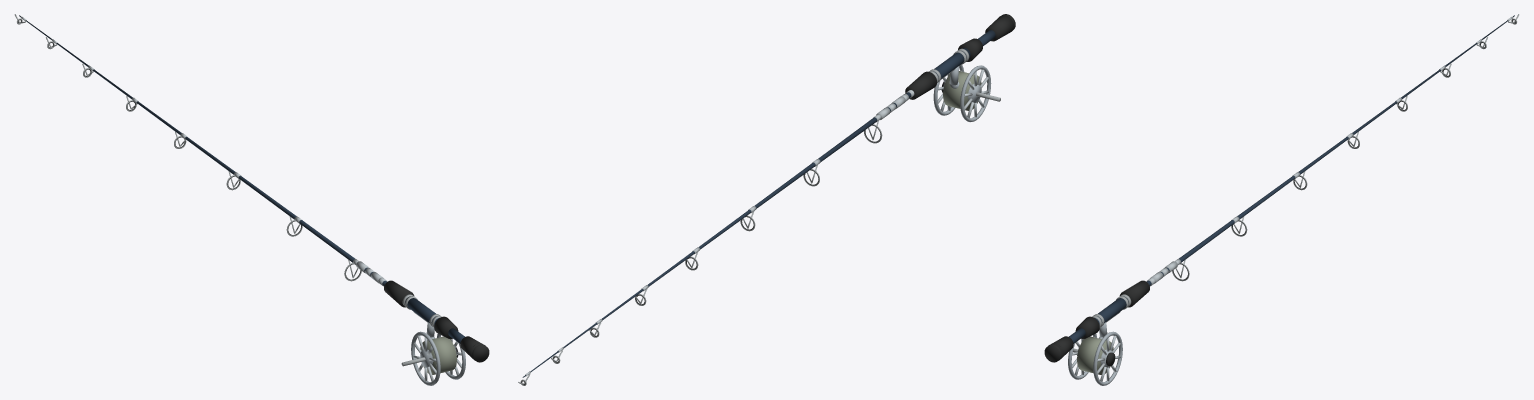
The model's file is reed_fly.glb.
The picture shows the model from 3 angles, left to right: view 1: azimuth 30°, elevation 25°; view 2: azimuth 150°, elevation 25°; view 3: azimuth 330°, elevation 25°; orthographic projection. The views are drawn at different scales.
Parts seen in each view (by area): view 1: Tapered carbon blank.005; view 2: Tapered carbon blank.005; view 3: Tapered carbon blank.005.
Boxes of the visible parts, left/top/right/bottom form: Tapered carbon blank.005: left=14, top=14, right=489, bottom=385; Tapered carbon blank.005: left=518, top=14, right=1015, bottom=385; Tapered carbon blank.005: left=1044, top=14, right=1519, bottom=385.
Size of the model in its own units: 0.124 by 0.151 by 1.91.
